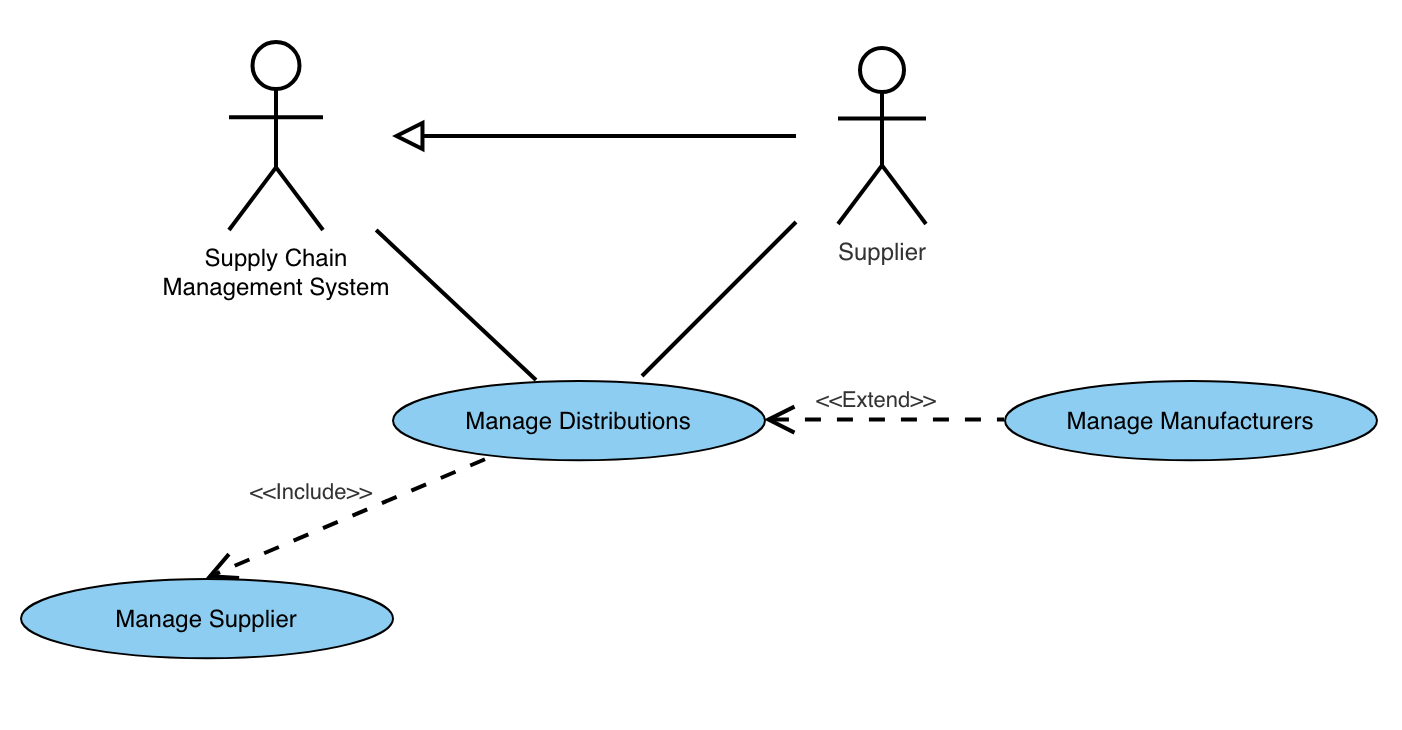actor: (834, 40, 939, 238), (230, 30, 327, 236)
association: (208, 456, 488, 580), (375, 228, 540, 383), (640, 217, 798, 378), (764, 402, 1004, 434)
generalization: (390, 112, 797, 152)
text: (166, 245, 391, 311), (449, 398, 697, 440), (1059, 403, 1322, 436), (101, 602, 308, 638), (816, 382, 941, 415), (833, 236, 929, 269), (251, 479, 379, 503)
use_case: (16, 575, 396, 663), (1003, 378, 1381, 464), (391, 378, 767, 464)
